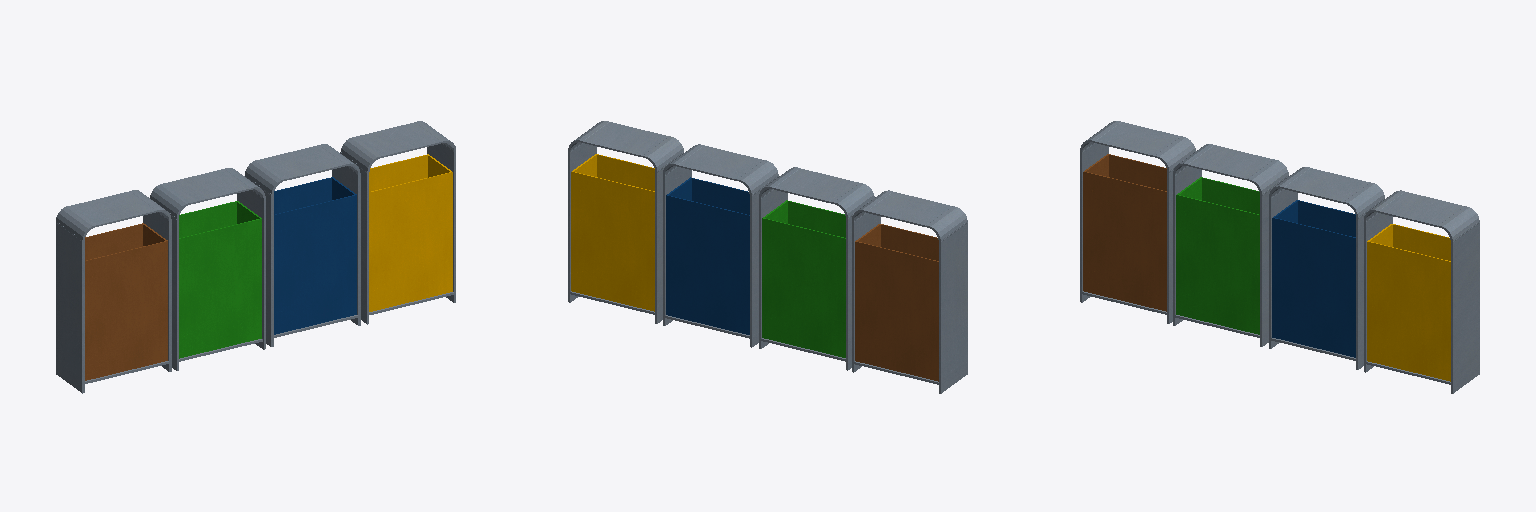
3 renders of one model, left to right at view 1: azimuth 30°, elevation 25°; view 2: azimuth 150°, elevation 25°; view 3: azimuth 330°, elevation 25°, orthographic.
Parts seen in each view (by area): view 1: Box016, Box012, Box020, Box018, Box017, Box010, Box015, Box019; view 2: Box018, Box012, Box020, Box016, Box017, Box010, Box015, Box019; view 3: Box016, Box012, Box020, Box018, Box015, Box019, Box010, Box017.
Part boxes in pixels (x1,y1,x2,y2): Box016: (369,154,452,311); Box012: (274,177,356,334); Box020: (179,201,261,358); Box018: (85,223,167,380); Box017: (56,190,171,393); Box010: (245,144,360,346); Box015: (340,121,455,324); Box019: (150,168,265,370); Box018: (855,224,938,381); Box012: (666,177,749,334); Box020: (762,200,845,357); Box016: (571,154,654,311); Box017: (852,190,967,393); Box010: (663,144,778,347); Box015: (568,121,683,323); Box019: (759,167,874,370); Box016: (1367,224,1450,381); Box012: (1272,200,1355,357); Box020: (1176,177,1259,334); Box018: (1083,154,1166,311); Box015: (1364,190,1479,393); Box019: (1173,144,1288,346); Box010: (1269,167,1384,369); Box017: (1080,121,1195,323).
Bounding box in the file's own units: 116 × 48.99 × 14.78.
Materials: 5 (5 with a texture image).